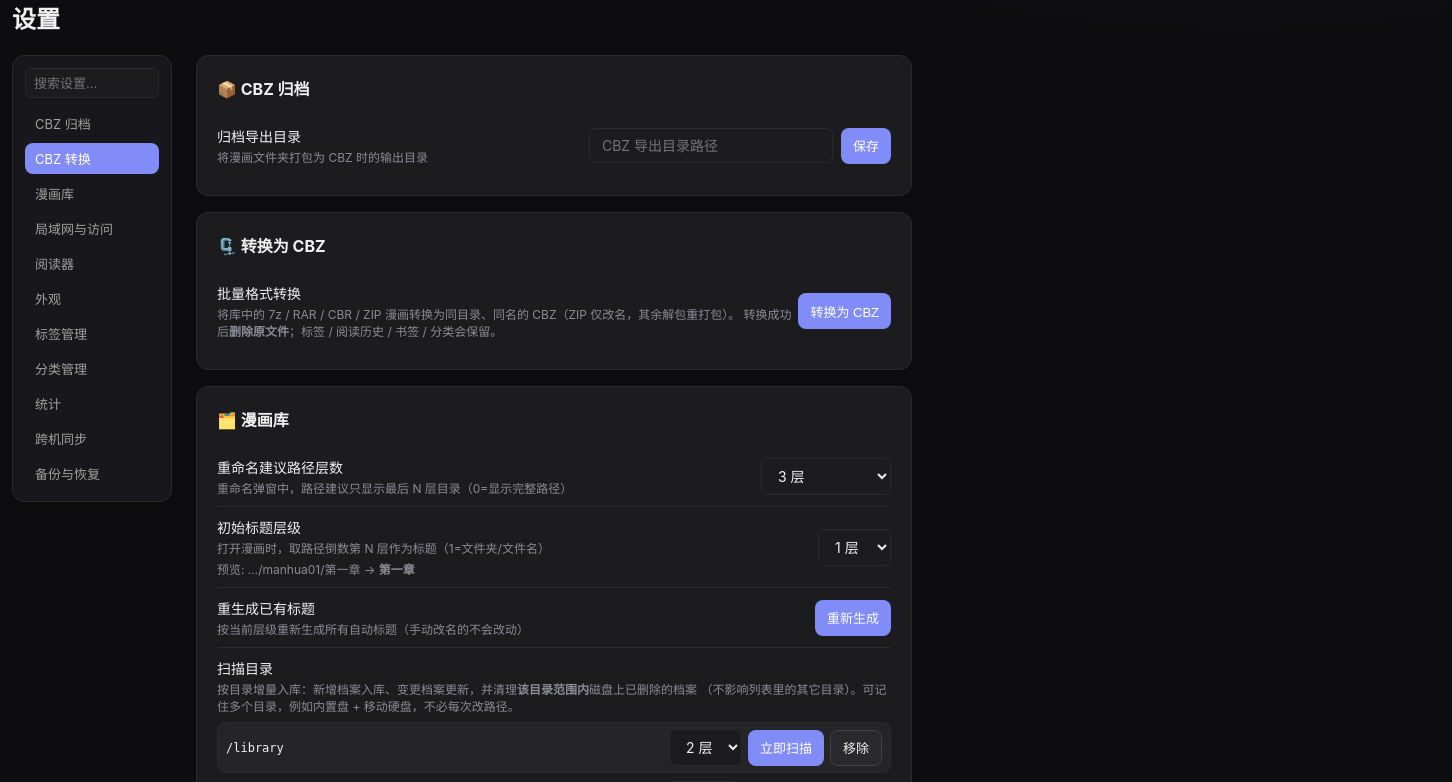
Test case: Settings 页面 › 点击立即扫描触发扫描接口并提示结果
The width and height of the screenshot is (1452, 782).
// 等服务端设置回填根目录后再触发，确保使用已持久化的目录/深度
Click the button "立即扫描": (786, 748) [748,730,824,766]
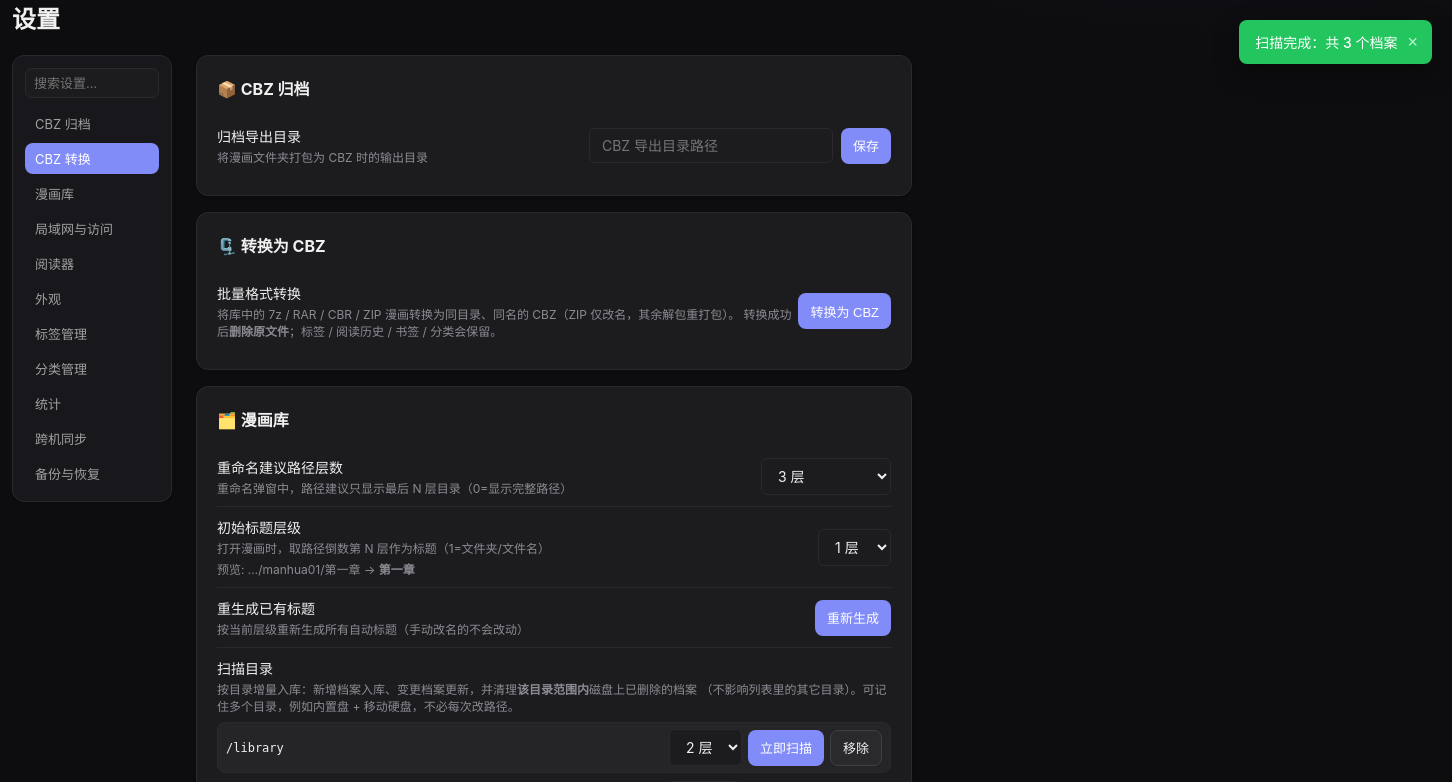
expect the text "扫描完成：共 3 个档案" is shown: met, box [1255,32,1398,52]
